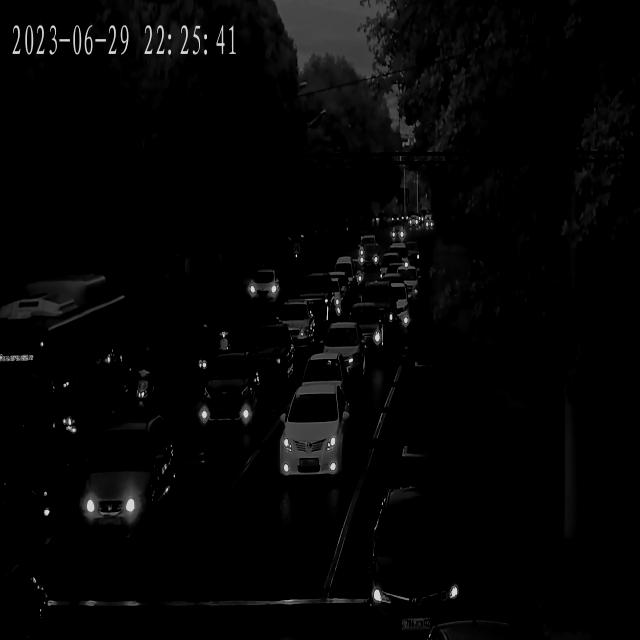Bus: (0, 286, 146, 468)
Car: (368, 484, 472, 638), (68, 418, 177, 550), (282, 386, 353, 485), (197, 352, 261, 431), (0, 564, 46, 640), (311, 326, 368, 384), (351, 280, 408, 337), (244, 325, 296, 385), (292, 353, 349, 405), (331, 312, 383, 363), (292, 274, 345, 324), (266, 300, 318, 349), (388, 270, 423, 308), (327, 261, 363, 297), (250, 272, 284, 306), (386, 244, 412, 274), (379, 252, 406, 276), (356, 242, 378, 269), (389, 226, 405, 242)
